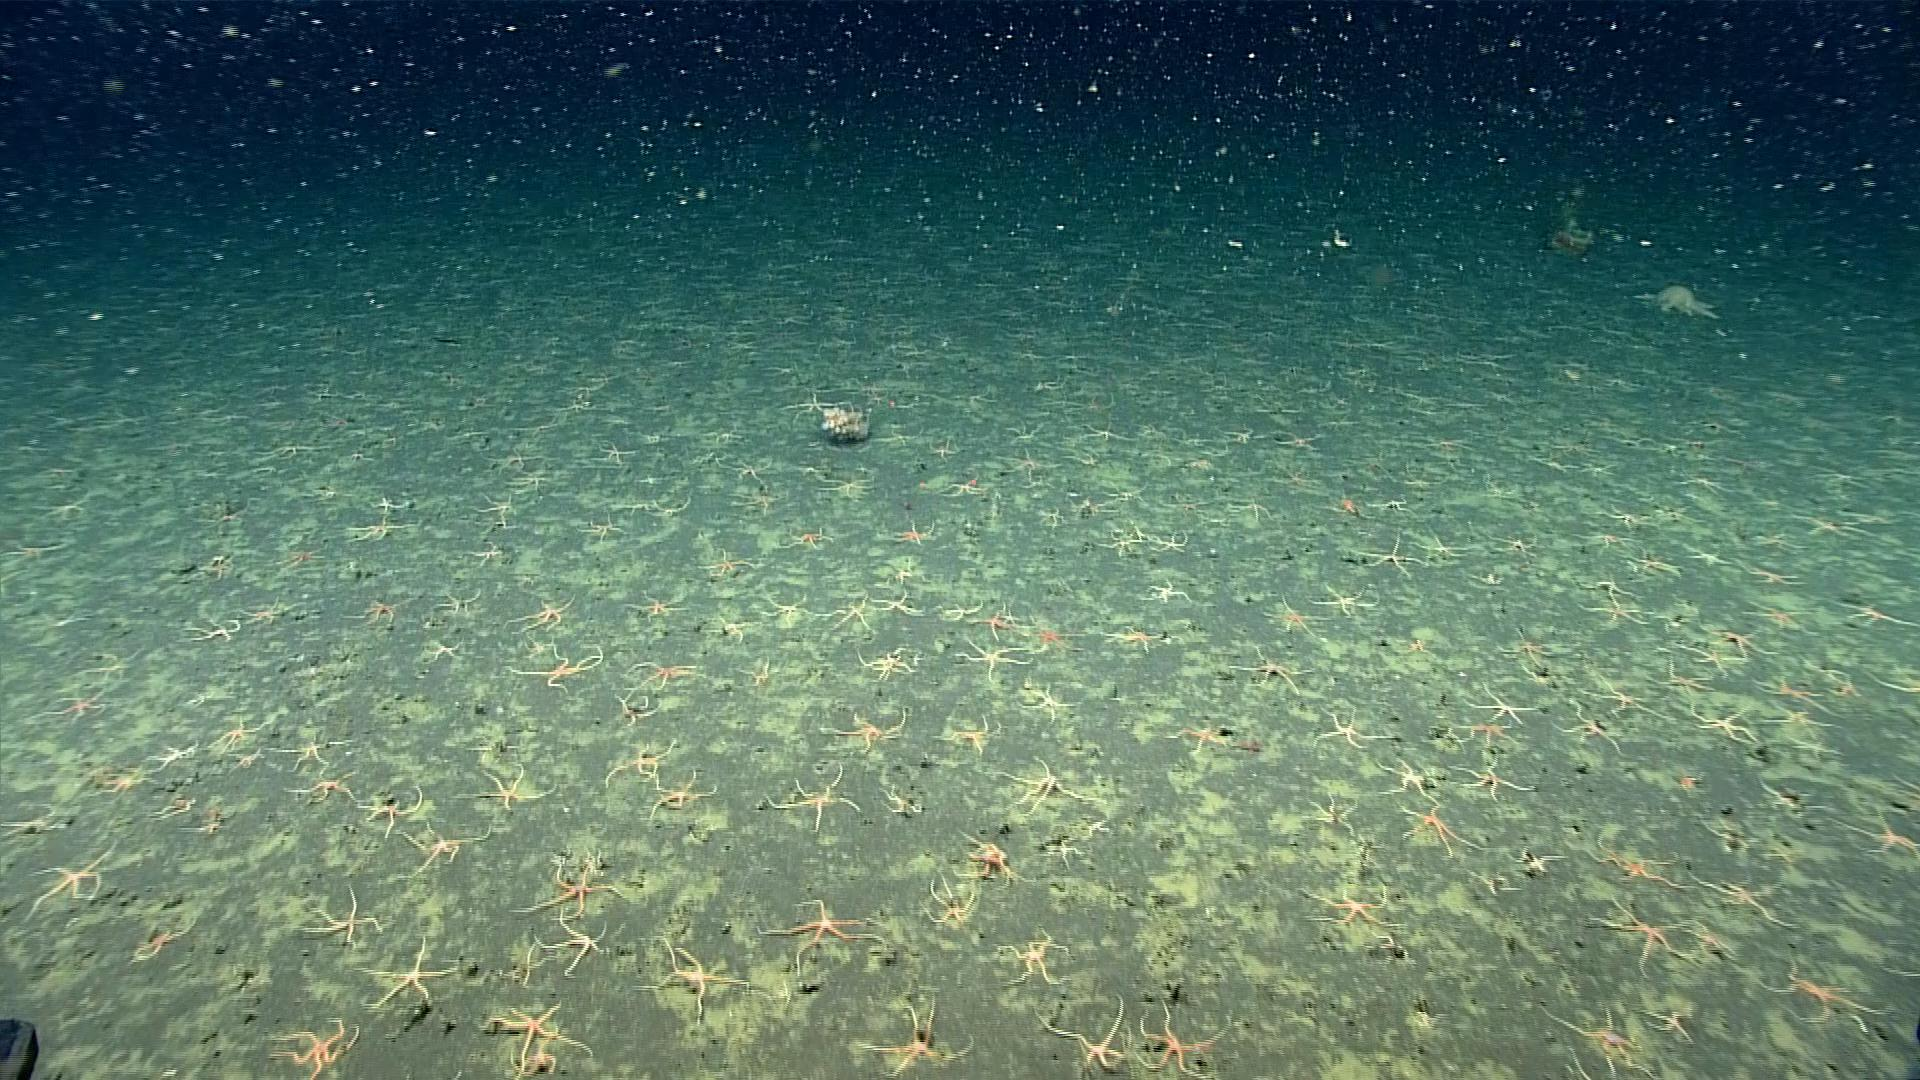brittle_sea_star: (1746, 951, 1887, 1034), (758, 894, 889, 972), (637, 932, 749, 1017), (1586, 898, 1705, 975), (851, 998, 980, 1068), (351, 938, 463, 1014), (18, 837, 119, 922), (480, 1002, 593, 1076), (1034, 997, 1138, 1069), (508, 860, 622, 924), (765, 758, 862, 832), (989, 754, 1105, 816), (1572, 835, 1689, 894), (1692, 870, 1800, 934), (1545, 1005, 1643, 1071), (1137, 998, 1225, 1069), (392, 823, 501, 878), (1387, 789, 1477, 855), (506, 640, 608, 698), (269, 1015, 361, 1079), (1307, 874, 1403, 935), (298, 878, 382, 944), (533, 907, 608, 977), (458, 761, 550, 818), (1847, 803, 1919, 872), (1576, 674, 1675, 723), (827, 703, 907, 760), (994, 931, 1071, 990), (947, 634, 1039, 682), (1229, 649, 1316, 699), (642, 769, 723, 823), (281, 765, 365, 811), (125, 915, 200, 967), (601, 740, 675, 790), (1453, 756, 1535, 799), (272, 731, 351, 775), (360, 785, 426, 837), (918, 877, 984, 930), (1375, 753, 1447, 802), (1353, 533, 1424, 582), (1553, 698, 1621, 749), (1309, 707, 1383, 752), (1462, 683, 1539, 725), (1576, 588, 1652, 630), (1762, 698, 1841, 737), (1263, 597, 1329, 644), (506, 593, 575, 637), (626, 655, 704, 694), (1647, 661, 1716, 702), (851, 645, 924, 682), (144, 736, 210, 777), (964, 831, 1019, 878), (1679, 638, 1747, 676), (1834, 600, 1911, 634), (1695, 704, 1756, 746), (73, 651, 138, 691), (1164, 721, 1237, 757), (1311, 584, 1381, 621), (816, 593, 873, 638), (1015, 682, 1077, 723), (88, 760, 152, 799), (934, 716, 990, 760), (1502, 628, 1559, 670), (208, 715, 268, 752), (621, 591, 684, 624), (344, 513, 410, 543), (756, 592, 810, 629), (344, 596, 406, 628), (181, 616, 244, 646), (1743, 601, 1809, 630), (141, 790, 200, 822), (1104, 624, 1163, 655), (698, 550, 756, 580), (1789, 733, 1845, 765), (433, 588, 485, 621), (419, 636, 471, 669), (973, 604, 1018, 641), (476, 491, 522, 526), (613, 687, 654, 727), (578, 510, 626, 543), (872, 588, 923, 618), (236, 601, 294, 628), (1145, 580, 1193, 609), (181, 818, 233, 844), (1145, 529, 1191, 558), (278, 545, 330, 570), (229, 748, 268, 781), (891, 521, 936, 549), (1097, 531, 1142, 559), (935, 600, 986, 624), (787, 524, 832, 550), (1634, 555, 1685, 578), (1497, 531, 1536, 555), (1038, 505, 1067, 530)
